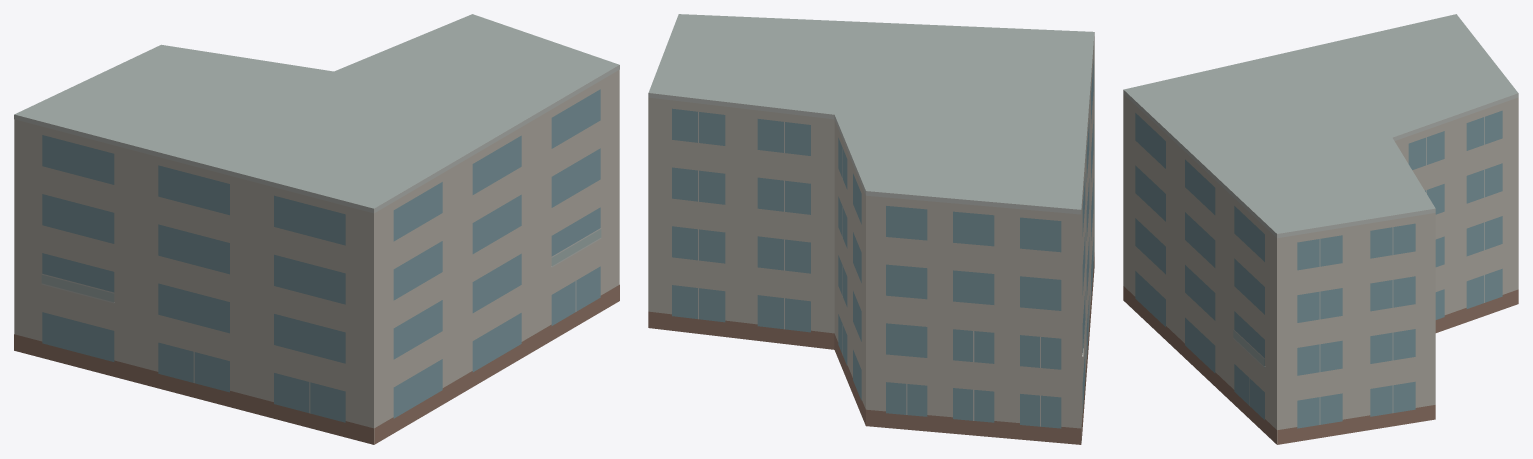
Rendered from residential-889e3578-eee2-4281-a01d-a89535086910.glb.
3 renders of one model, left to right at view 1: azimuth 30°, elevation 25°; view 2: azimuth 150°, elevation 25°; view 3: azimuth 270°, elevation 25°, orthographic. The views are drawn at different scales.
Parts seen in each view (by area): view 1: residential-889e3578-eee2-4281-a01d-a89535086910.tmp; view 2: residential-889e3578-eee2-4281-a01d-a89535086910.tmp; view 3: residential-889e3578-eee2-4281-a01d-a89535086910.tmp.
Boxes of the visible parts, bbox=[...] form: residential-889e3578-eee2-4281-a01d-a89535086910.tmp: bbox=[14, 14, 619, 444]; residential-889e3578-eee2-4281-a01d-a89535086910.tmp: bbox=[648, 14, 1094, 444]; residential-889e3578-eee2-4281-a01d-a89535086910.tmp: bbox=[1123, 14, 1518, 444].
Bounding box in the file's own units: 27.31 × 12.2 × 20.73.
